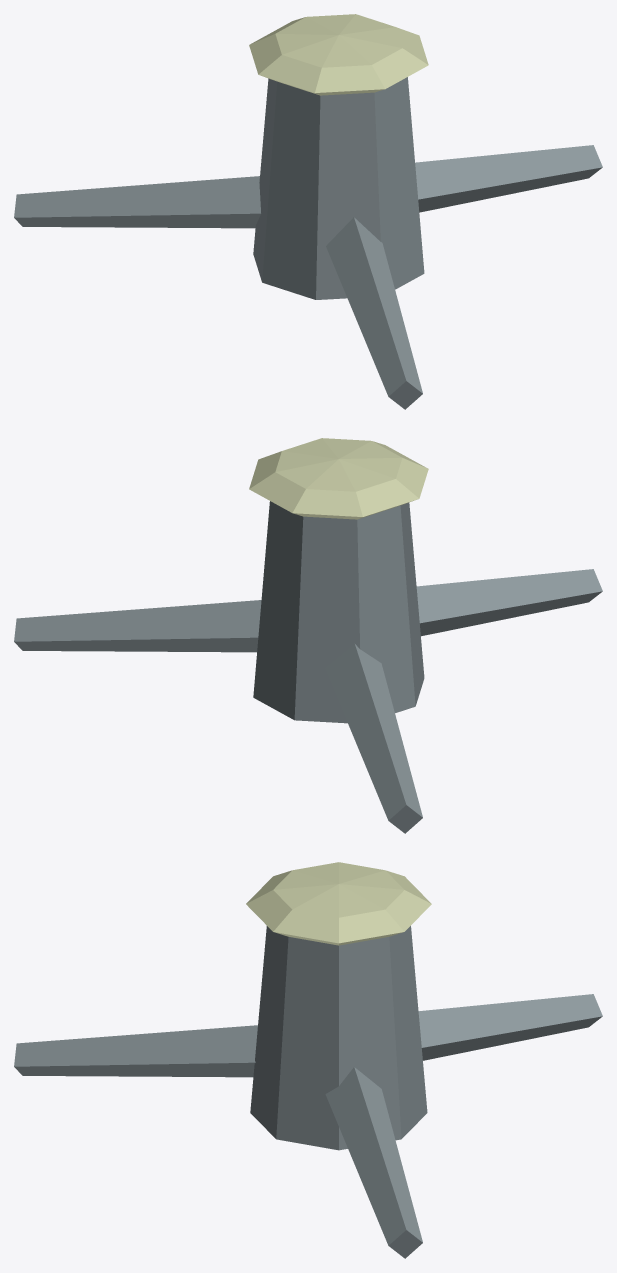
File: crown_debris.glb
3 views of the same model, one above another, from view 1: azimuth 30°, elevation 25°; view 2: azimuth 150°, elevation 25°; view 3: azimuth 270°, elevation 25° (orthographic).
Parts seen in each view (by area): view 1: crown_debris; view 2: crown_debris; view 3: crown_debris.
Part boxes in pixels (box(x1,y1,x2,y2)): crown_debris: box(14, 14, 602, 409); crown_debris: box(14, 438, 602, 833); crown_debris: box(14, 862, 602, 1258).
Size of the model in its own units: 0.643 by 0.2947 by 0.6647.
